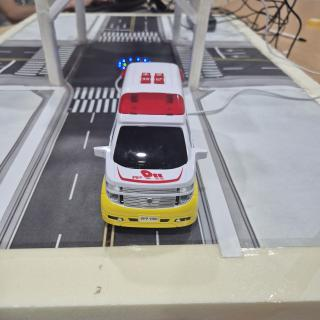Ambulance: (94, 62, 208, 228)
